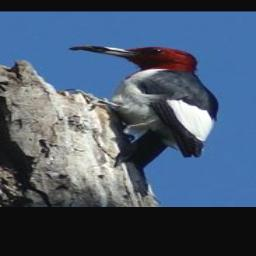Woodpecker: (70, 44, 220, 197)
